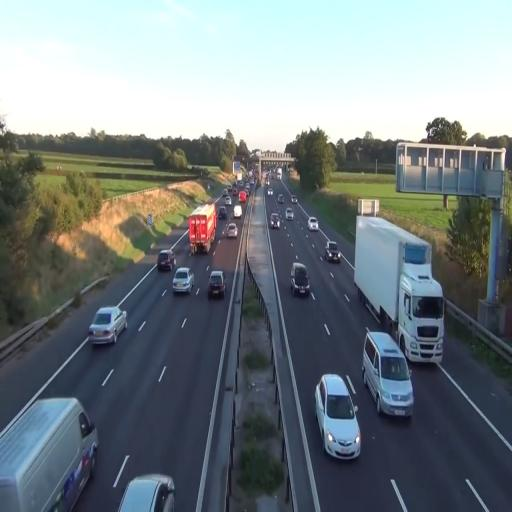vehicle: (353, 214, 446, 364), (354, 212, 445, 364), (0, 393, 99, 510), (362, 329, 414, 419), (314, 372, 361, 460), (118, 474, 176, 512), (89, 305, 127, 346), (188, 204, 217, 254), (290, 260, 310, 296), (172, 267, 194, 296), (208, 270, 226, 298), (320, 243, 342, 264), (156, 250, 174, 274), (324, 240, 340, 264), (224, 222, 238, 240), (271, 211, 281, 229), (308, 217, 318, 232), (285, 206, 294, 219)
